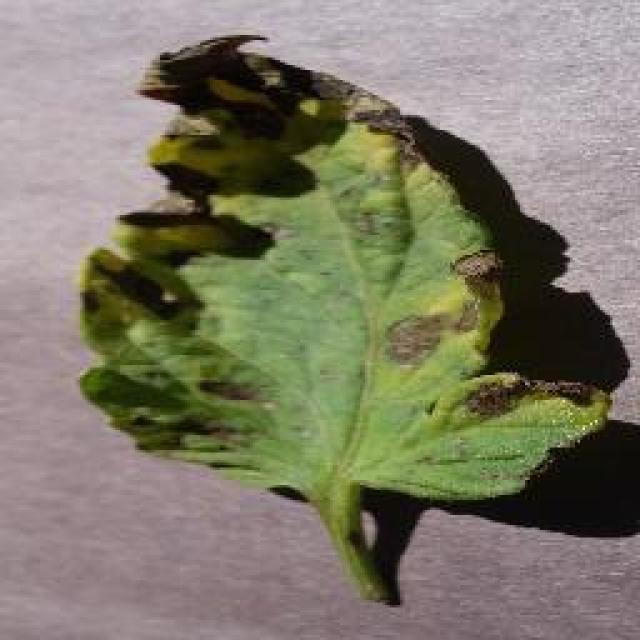Tomato Early blight leaf: (95, 42, 590, 598)
